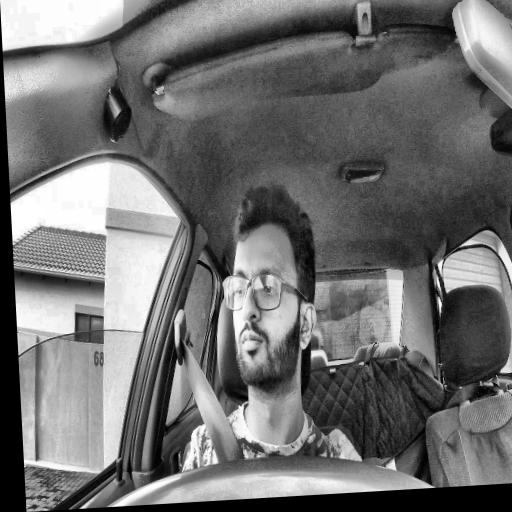awake: (217, 183, 322, 395)
